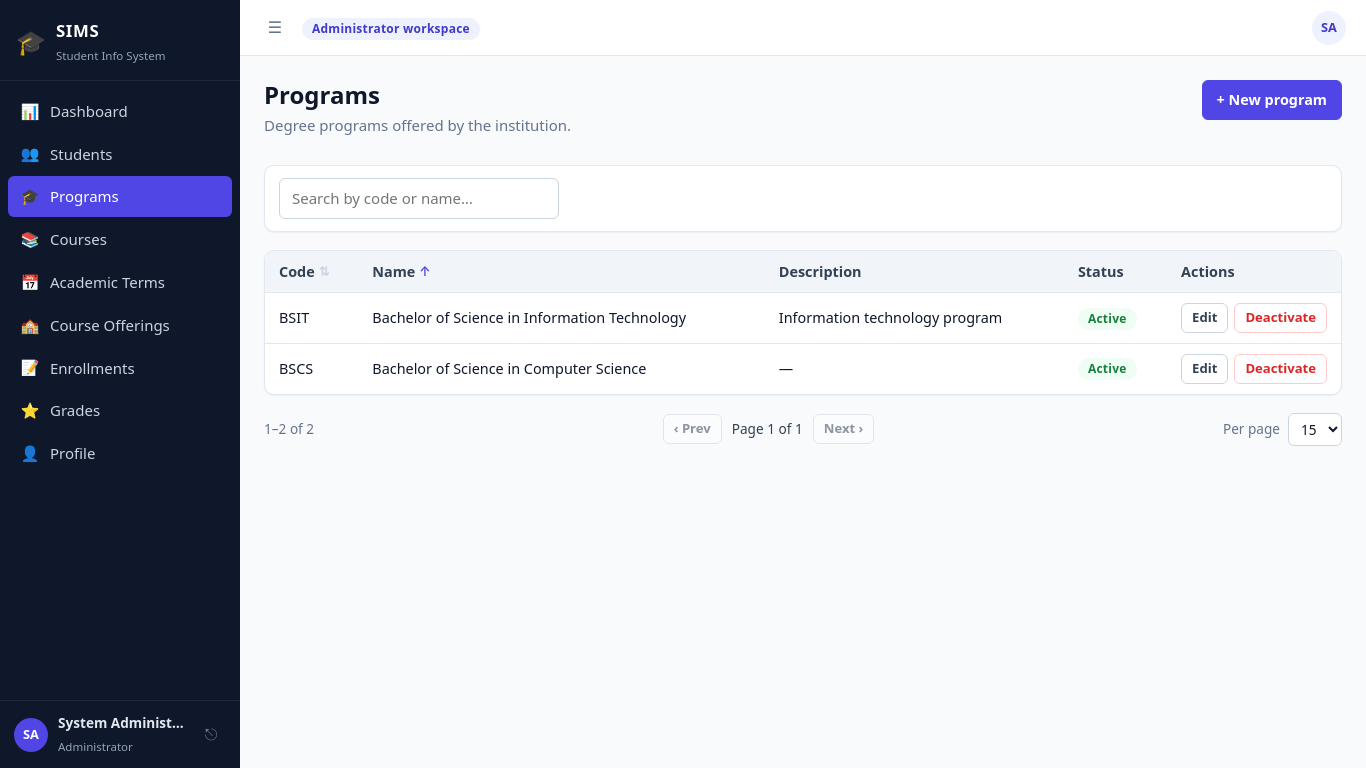
Scenario: form validation mapping › maps 422 field errors from the API into the program form
Expected: the text "BSIT" is shown, [265,293,358,344]
Click the button "+ New program" at (1272,100), box [1202,80,1342,120]
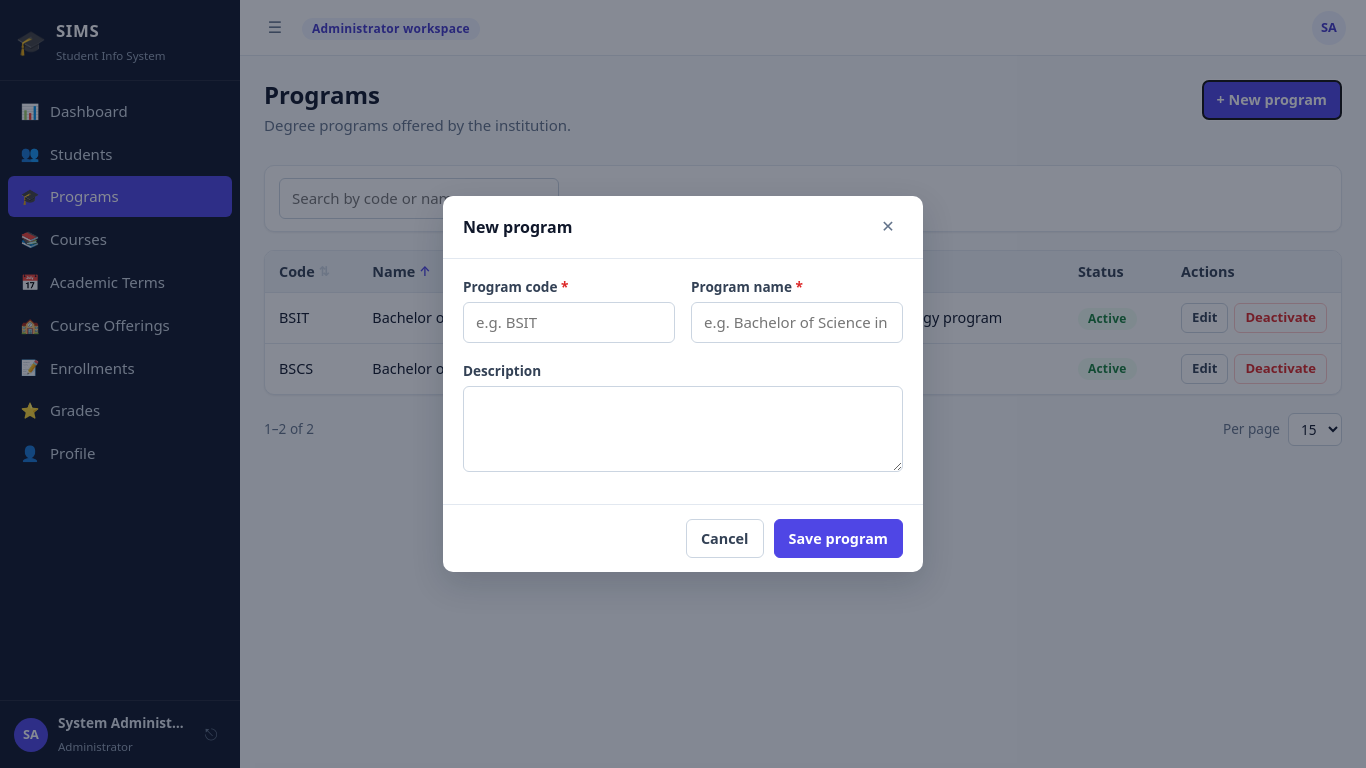
Type "BSIT" into the field labelled "Program code *" at (569,322), box [463,302,675,343]
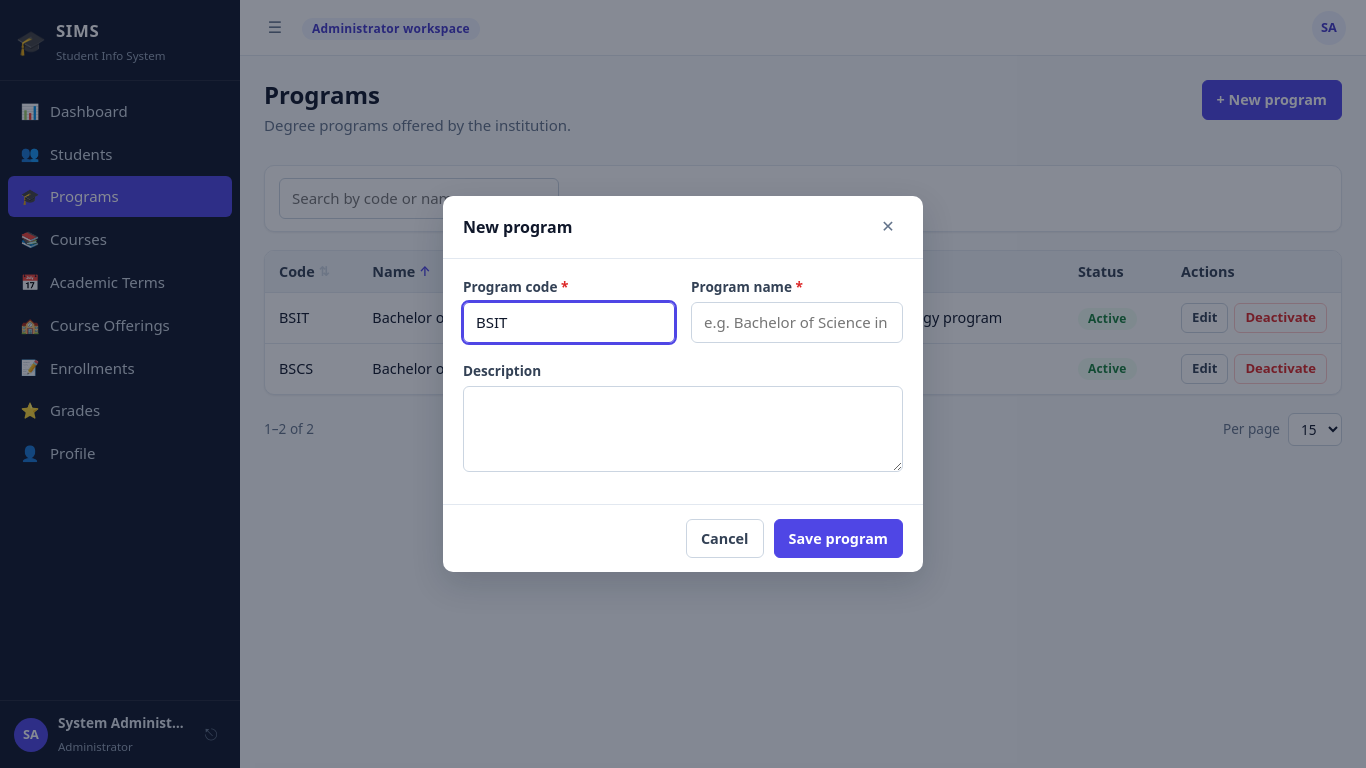
Type "Duplicate Program" into the field labelled "Program name *" at (797,322), box [691,302,903,343]
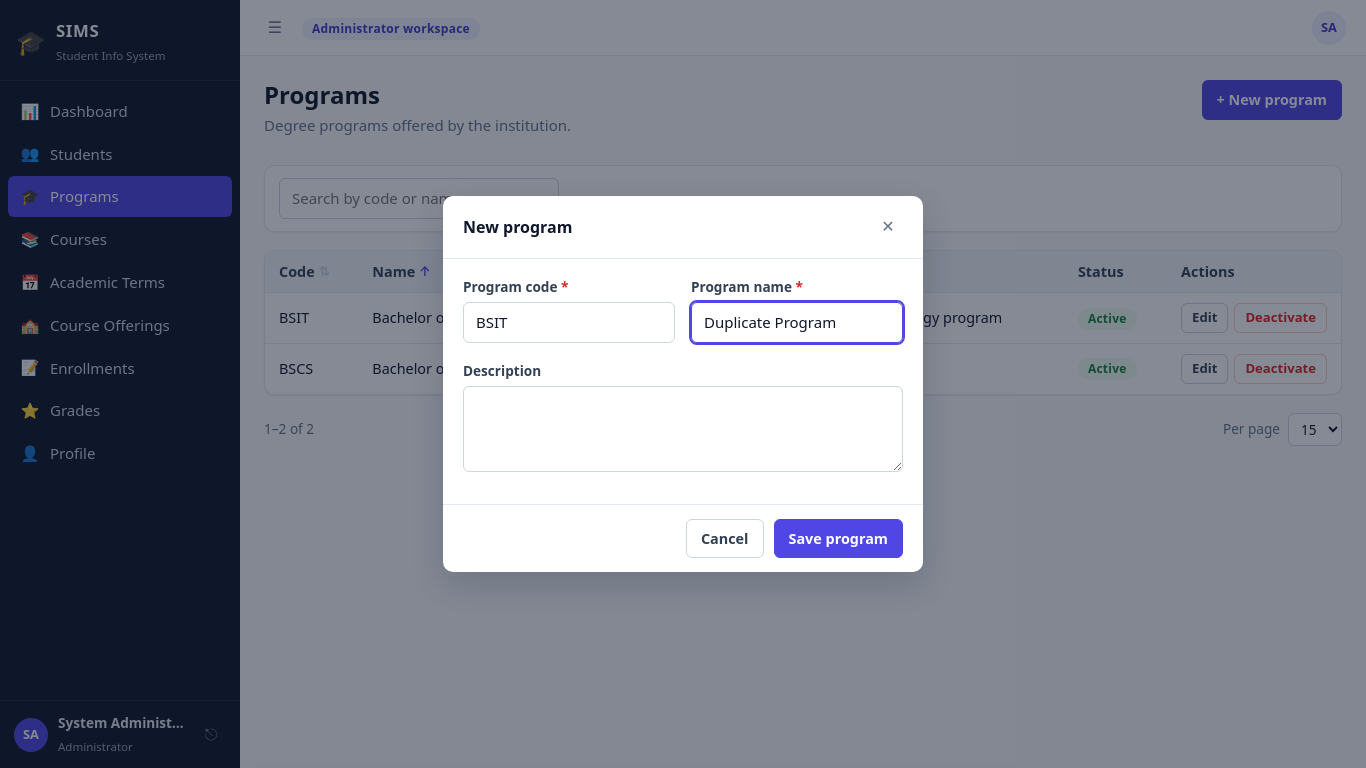
Click the button "Save program" at (838,538), box [774,519,903,558]
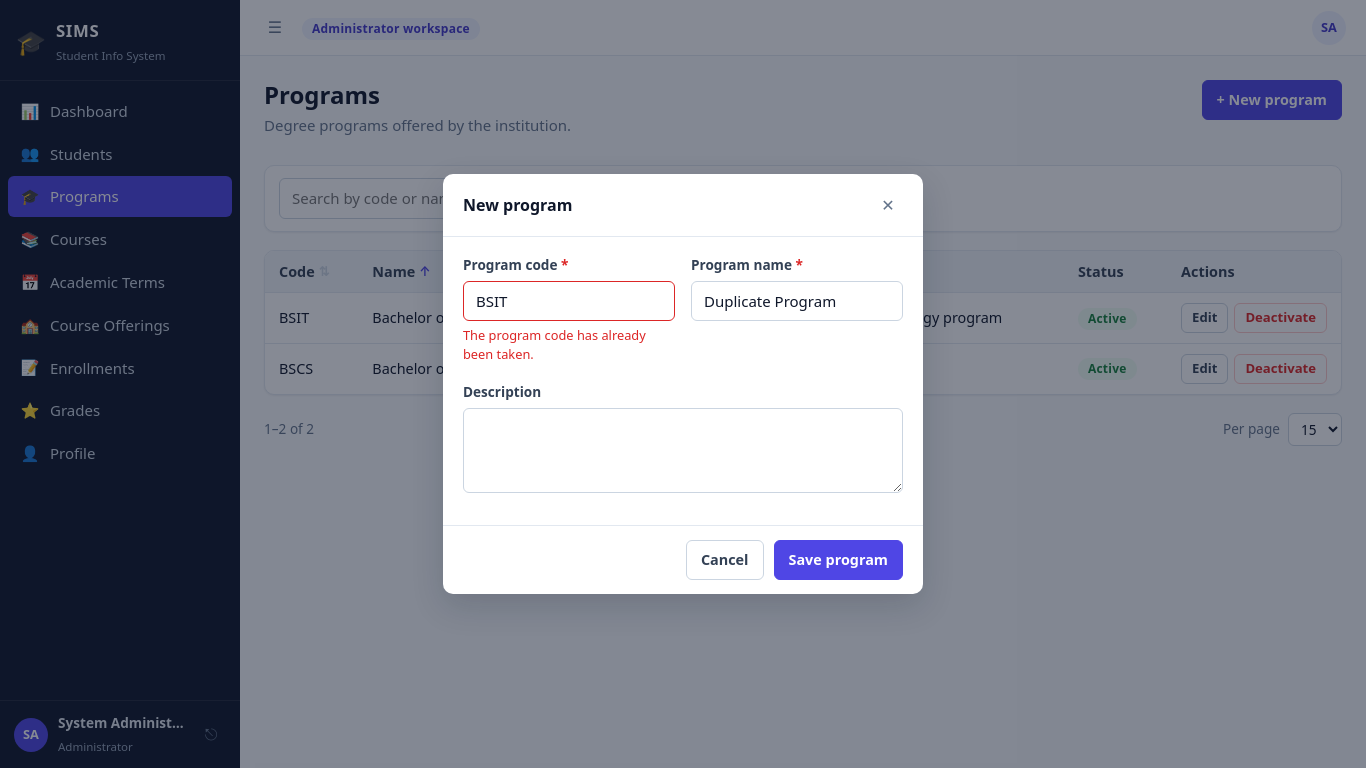
Expected: the text "BSIT" is shown, [265,293,358,344]
Expected: the text "The program code has already been taken." is shown, [463,326,675,364]
